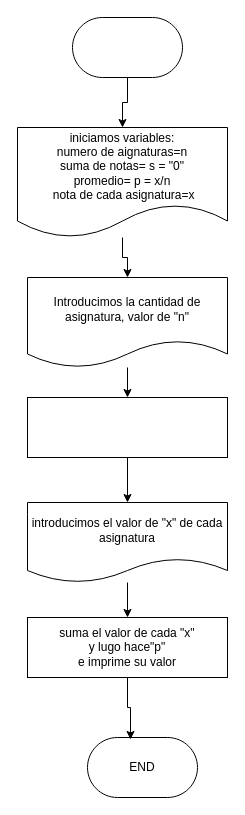
Image size: 245x815. Some labels were removed from this diagram. The centre of each missing label's shape, as x and y in pixels:
imprimen "n" veces la cantidad de asignaturas: (127,427)
Star: (127,47)
